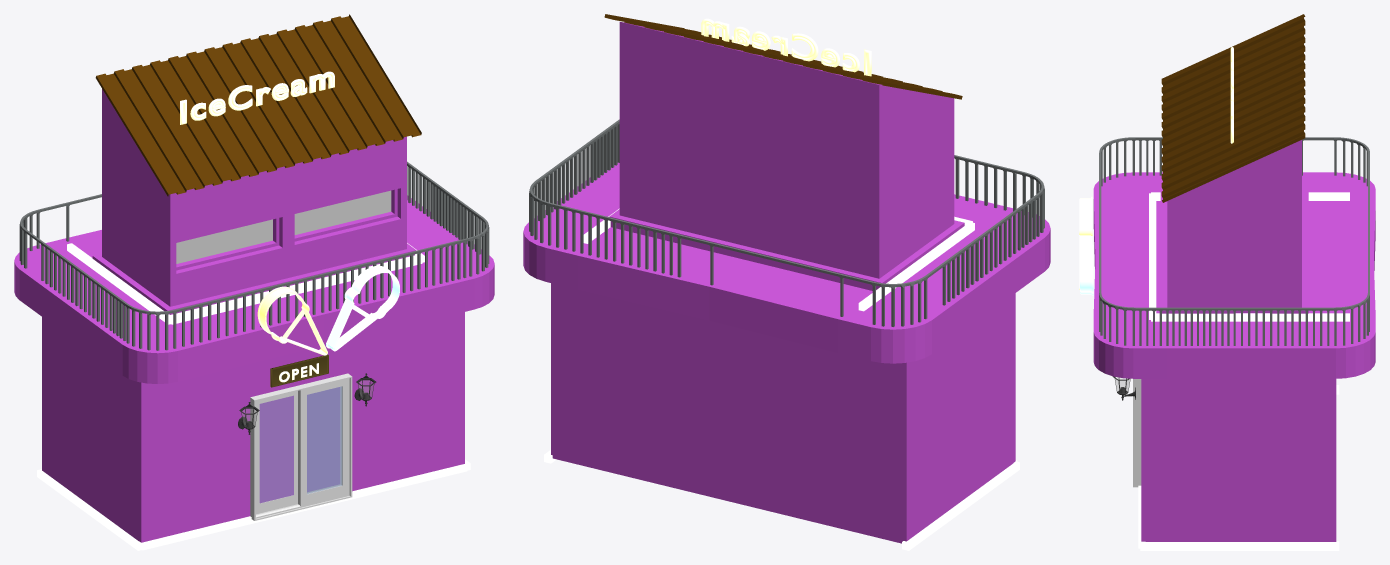
The model's file is icecream.fbx.
The picture shows the model from 3 angles, left to right: view 1: azimuth 30°, elevation 25°; view 2: azimuth 150°, elevation 25°; view 3: azimuth 270°, elevation 25°; orthographic projection. The views are drawn at different scales.
Visible parts, largest first — view 1: house1, Plane, Plane.005, house1.001, Designer Series French Sliding Door_001, Cube.004, Cube.002, OFFICE, uploads_files_711542_00159+morozhenoe+1.001, uploads_files_711542_00159+morozhenoe+1, Cube.001; view 2: house1, Plane, house1.001, Plane.005, OFFICE, Cube.002, Cube.004; view 3: house1, Plane, Plane.005, house1.001, Cube.002, Cube.004, Designer Series French Sliding Door_001, uploads_files_711542_00159+morozhenoe+1, uploads_files_711542_00159+morozhenoe+1.001, OFFICE.
Part boxes in pixels (box(x1,y1,x2,y2)): house1: box(14, 89, 494, 383); Plane: box(42, 312, 464, 542); Plane.005: box(95, 14, 421, 196); house1.001: box(19, 161, 489, 350); Designer Series French Sliding Door_001: box(250, 373, 352, 520); Cube.004: box(37, 459, 470, 550); Cube.002: box(67, 243, 424, 324); OFFICE: box(180, 71, 334, 124); uploads_files_711542_00159+morozhenoe+1.001: box(326, 265, 399, 351); uploads_files_711542_00159+morozhenoe+1: box(257, 286, 327, 355); Cube.001: box(270, 354, 328, 387); house1: box(523, 22, 1050, 363); Plane: box(551, 283, 1015, 543); house1.001: box(529, 119, 1044, 326); Plane.005: box(604, 14, 962, 99); OFFICE: box(701, 18, 871, 76); Cube.002: box(583, 208, 974, 311); Cube.004: box(544, 450, 1019, 550); house1: box(1093, 140, 1375, 378); Plane: box(1141, 379, 1336, 541); Plane.005: box(1161, 14, 1305, 202); house1.001: box(1099, 137, 1369, 345); Cube.002: box(1149, 192, 1349, 321); Cube.004: box(1138, 385, 1339, 550); Designer Series French Sliding Door_001: box(1133, 379, 1141, 487); uploads_files_711542_00159+morozhenoe+1: box(1079, 196, 1092, 289); uploads_files_711542_00159+morozhenoe+1.001: box(1080, 244, 1093, 295); OFFICE: box(1230, 47, 1233, 143).
Size of the model in its own units: 534 by 575 by 380.
